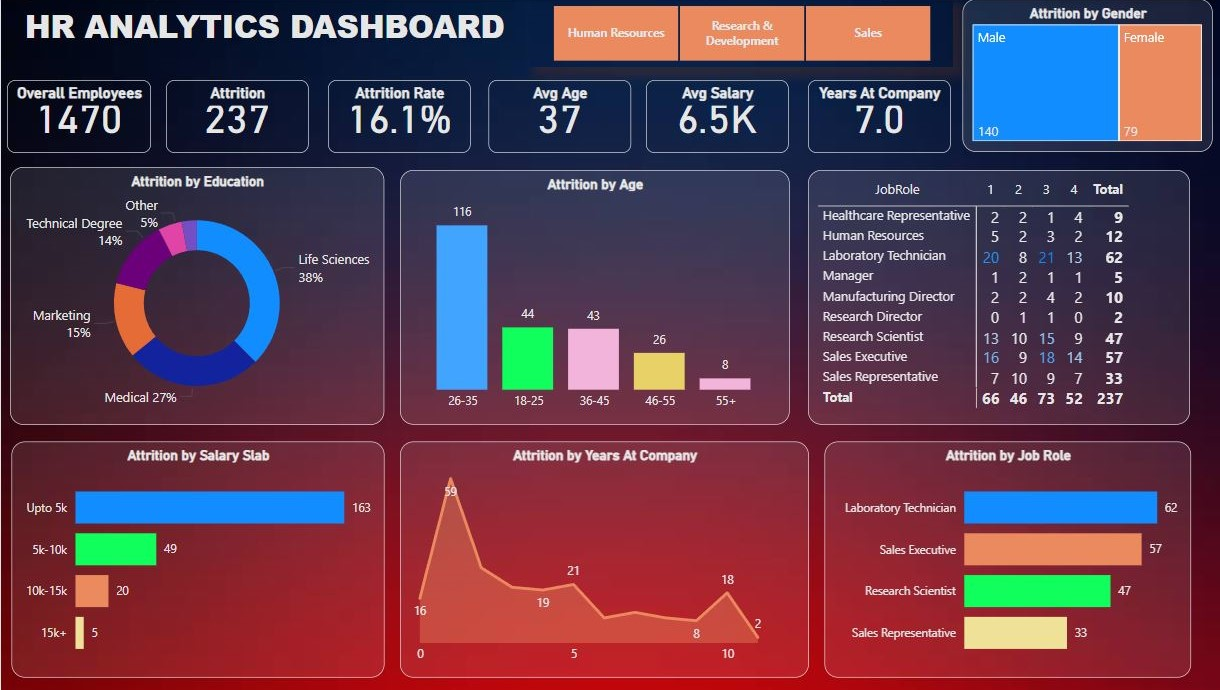

The page's visual inventory and layout, read from the dashboard file:
{"tool":"powerbi","page":{"name":"Page 1","canvas":[1280,720],"ordinal":0},"visuals":[{"type":"card","title":"Overall Employees","fields":{"Values":["Count(HR_Analytics.EmpID)"]},"box":[5.8,83.7,150,75.8],"z":0},{"type":"card","title":"Attrition","fields":{"Values":["Sum(HR_Analytics.AttritionCount)"]},"box":[171.6,83.7,148.4,75.8],"z":1000},{"type":"card","title":"Attrition Rate","fields":{"Values":["HR_Analytics.AttritionRate"]},"box":[340.5,83.7,148.4,75.8],"z":2000},{"type":"card","title":"Avg Age","fields":{"Values":["Avg(HR_Analytics.Age)"]},"box":[507.9,83.7,148.4,75.8],"z":3000},{"type":"card","title":"Avg Salary ","fields":{"Values":["Avg(HR_Analytics.MonthlyIncome)"]},"box":[672.1,83.7,148.4,75.8],"z":4000},{"type":"card","title":"Years At Company","fields":{"Values":["Avg(HR_Analytics.YearsAtCompany)"]},"box":[841.1,83.7,148.4,75.8],"z":5000},{"type":"donutChart","title":"Attrition by Education","fields":{"Category":["HR_Analytics.EducationField"],"Y":["Sum(HR_Analytics.AttritionCount)"]},"box":[9.5,175.3,390,268.4],"z":6000},{"type":"columnChart","title":"Attrition by Age","fields":{"Category":["HR_Analytics.AgeGroup"],"Y":["Sum(HR_Analytics.AttritionCount)"]},"box":[415.3,178.4,405.8,265.3],"z":7000},{"type":"pivotTable","title":"Job Satisfaction","fields":{"Rows":["HR_Analytics.JobRole"],"Columns":["HR_Analytics.JobSatisfaction"],"Values":["Sum(HR_Analytics.AttritionCount)"]},"box":[841.6,178.4,397.9,265.3],"z":8000},{"type":"barChart","title":"Attrition by Salary Slab","fields":{"Category":["HR_Analytics.SalarySlab"],"Y":["Sum(HR_Analytics.AttritionCount)"]},"box":[11.1,461.1,388.4,246.3],"z":9000},{"type":"barChart","title":"Attrition by Job Role","fields":{"Category":["HR_Analytics.JobRole"],"Y":["Sum(HR_Analytics.AttritionCount)"]},"box":[857.4,461.1,382.1,246.3],"z":10000},{"type":"areaChart","title":"Attrition by Years At Company","fields":{"Category":["HR_Analytics.YearsAtCompany"],"Y":["Sum(HR_Analytics.AttritionCount)"]},"box":[415.3,461.1,426.3,246.3],"z":11000},{"type":"treemap","title":"Attrition by Gender","fields":{"Group":["HR_Analytics.Gender"],"Values":["Sum(HR_Analytics.AttritionCount)"]},"box":[1002.6,0,260.5,159.5],"z":12000},{"type":"slicer","fields":{"Values":["HR_Analytics.Department"]},"box":[549.5,0,442.1,71.1],"z":13000},{"type":"textbox","box":[11.1,0,527.4,71.1],"z":14000}]}

Visuals, with their boxes in screenshot pixels (x1, y1, x2, y2), scaled from the page's 1280x720 canvas onto the 1220x690 screenshot:
"Overall Employees" card: (left=6, top=80, right=148, bottom=153)
"Attrition" card: (left=164, top=80, right=305, bottom=153)
"Attrition Rate" card: (left=325, top=80, right=466, bottom=153)
"Avg Age" card: (left=484, top=80, right=626, bottom=153)
"Avg Salary " card: (left=641, top=80, right=782, bottom=153)
"Years At Company" card: (left=802, top=80, right=943, bottom=153)
"Attrition by Education" donutChart: (left=9, top=168, right=381, bottom=425)
"Attrition by Age" columnChart: (left=396, top=171, right=783, bottom=425)
"Job Satisfaction" pivotTable: (left=802, top=171, right=1181, bottom=425)
"Attrition by Salary Slab" barChart: (left=11, top=442, right=381, bottom=678)
"Attrition by Job Role" barChart: (left=817, top=442, right=1181, bottom=678)
"Attrition by Years At Company" areaChart: (left=396, top=442, right=802, bottom=678)
"Attrition by Gender" treemap: (left=956, top=0, right=1204, bottom=153)
slicer - HR_Analytics.Department: (left=524, top=0, right=945, bottom=68)
textbox: (left=11, top=0, right=513, bottom=68)
